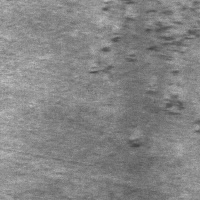rolled-in_scale: (98, 3, 199, 69), (130, 88, 199, 145)
